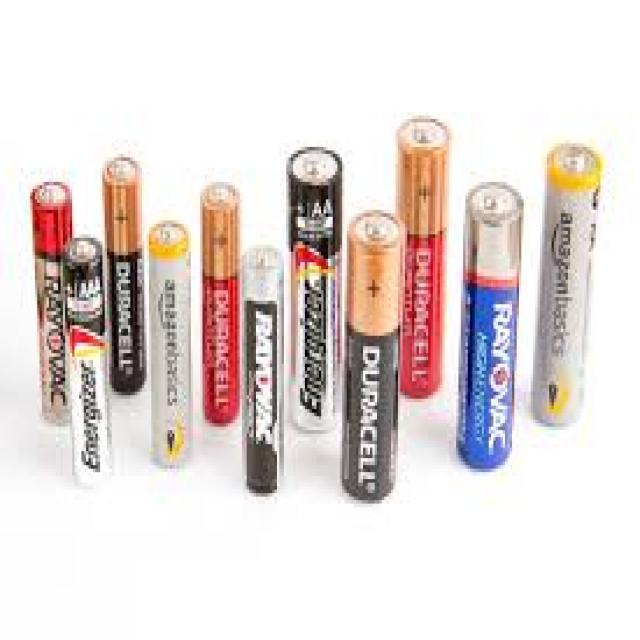non-organic waste: (535, 140, 604, 429), (341, 209, 405, 503), (461, 177, 524, 470), (287, 146, 346, 437), (139, 217, 196, 478), (393, 115, 443, 399), (61, 230, 111, 478), (100, 155, 148, 398), (32, 176, 77, 432), (240, 242, 284, 496), (195, 183, 239, 430)
